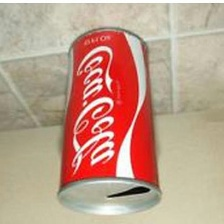can: (53, 23, 166, 221)
